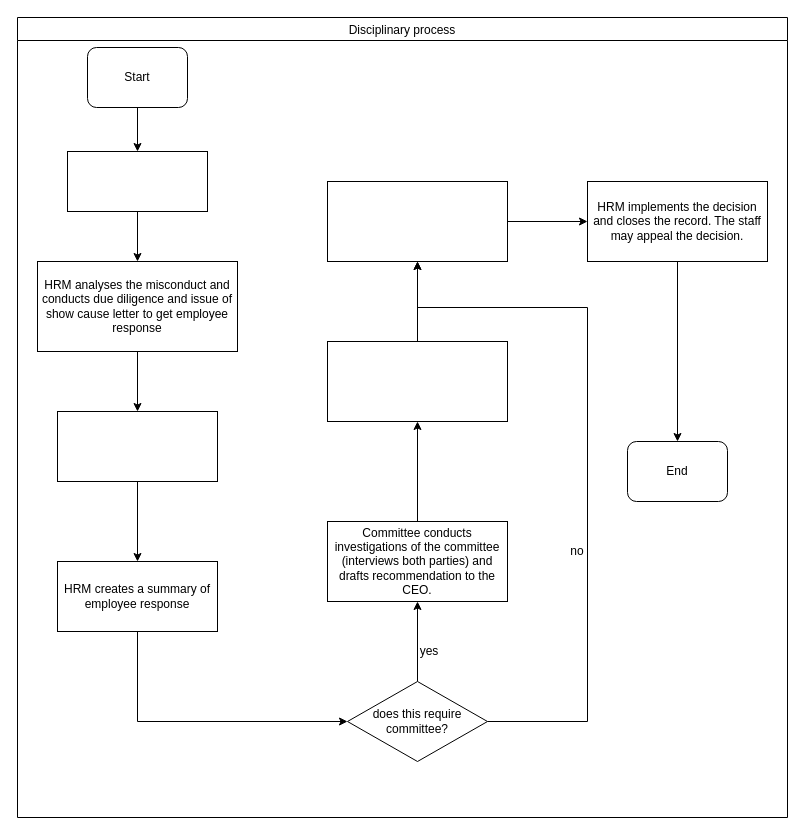
This 805x835 diagram has some shape labels left out. Here are the shapes that lost their labels. From the top down, the box of each, then its label:
(66, 150, 208, 212): HoD fills a misconductreporting form to the Head of HRM
(326, 180, 508, 262): HRM communicates decision to affected employee and the supervisor
(326, 340, 508, 422): CEO reviews and adds their recommendation and forwards to the HRM
(56, 410, 218, 482): Employee receives notification from HRM and submits a response
